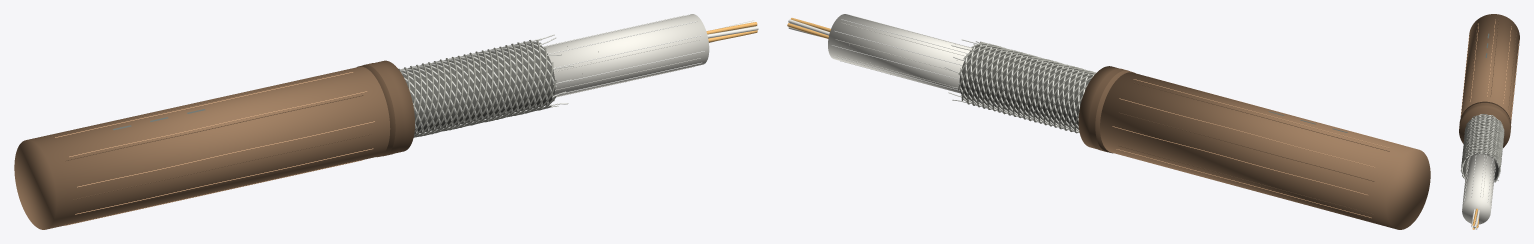
The model's file is rf-rg188-macro.glb.
3 renders of one model, left to right at view 1: azimuth 30°, elevation 25°; view 2: azimuth 150°, elevation 25°; view 3: azimuth 270°, elevation 25°, orthographic. The views are drawn at different scales.
Parts seen in each view (by area): view 1: macro jacket body, macro dielectric exposed core, shadow seen through braid windows, thick jacket cut wall, rounded jacket cut lip, jacket axial surface line 04, jacket axial surface line 05, jacket axial surface line 06; view 2: macro jacket body, macro dielectric exposed core, shadow seen through braid windows, thick jacket cut wall, rounded jacket cut lip; view 3: macro jacket body, macro dielectric exposed core, thick jacket cut wall, shadow seen through braid windows, macro braid shadow carrier 06 strand 2, macro braid shadow carrier 11 strand 2, macro braid shadow carrier 07 strand 2, macro braid shadow carrier 08 strand 2, macro braid shadow carrier 09 strand 2, macro braid shadow carrier 10 strand 2, macro braid shadow carrier 04 strand 2, rounded jacket cut lip (+39 smaller).
Part boxes in pixels (left/top/right/bottom): macro jacket body: left=14, top=66, right=390, bottom=229; macro dielectric exposed core: left=543, top=14, right=709, bottom=96; shadow seen through braid windows: left=402, top=43, right=555, bottom=134; thick jacket cut wall: left=357, top=60, right=414, bottom=157; rounded jacket cut lip: left=363, top=63, right=403, bottom=156; jacket axial surface line 04: left=69, top=91, right=366, bottom=157; jacket axial surface line 05: left=77, top=121, right=374, bottom=187; jacket axial surface line 06: left=75, top=148, right=373, bottom=214; macro jacket body: left=1100, top=72, right=1430, bottom=229; macro dielectric exposed core: left=828, top=14, right=972, bottom=93; shadow seen through braid windows: left=959, top=45, right=1092, bottom=130; thick jacket cut wall: left=1078, top=66, right=1135, bottom=153; rounded jacket cut lip: left=1088, top=68, right=1129, bottom=152; macro jacket body: left=1460, top=14, right=1519, bottom=123; macro dielectric exposed core: left=1462, top=154, right=1495, bottom=224; thick jacket cut wall: left=1459, top=101, right=1510, bottom=147; shadow seen through braid windows: left=1463, top=116, right=1498, bottom=180; macro braid shadow carrier 06 strand 2: left=1462, top=120, right=1504, bottom=164; macro braid shadow carrier 11 strand 2: left=1461, top=118, right=1503, bottom=174; macro braid shadow carrier 07 strand 2: left=1462, top=115, right=1504, bottom=160; macro braid shadow carrier 08 strand 2: left=1461, top=114, right=1503, bottom=162; macro braid shadow carrier 09 strand 2: left=1461, top=115, right=1503, bottom=164; macro braid shadow carrier 10 strand 2: left=1461, top=116, right=1503, bottom=165; macro braid shadow carrier 04 strand 2: left=1462, top=126, right=1502, bottom=181; rounded jacket cut lip: left=1459, top=103, right=1511, bottom=126.
Size of the model in its own units: 6.44 by 0.7393 by 0.8693.
